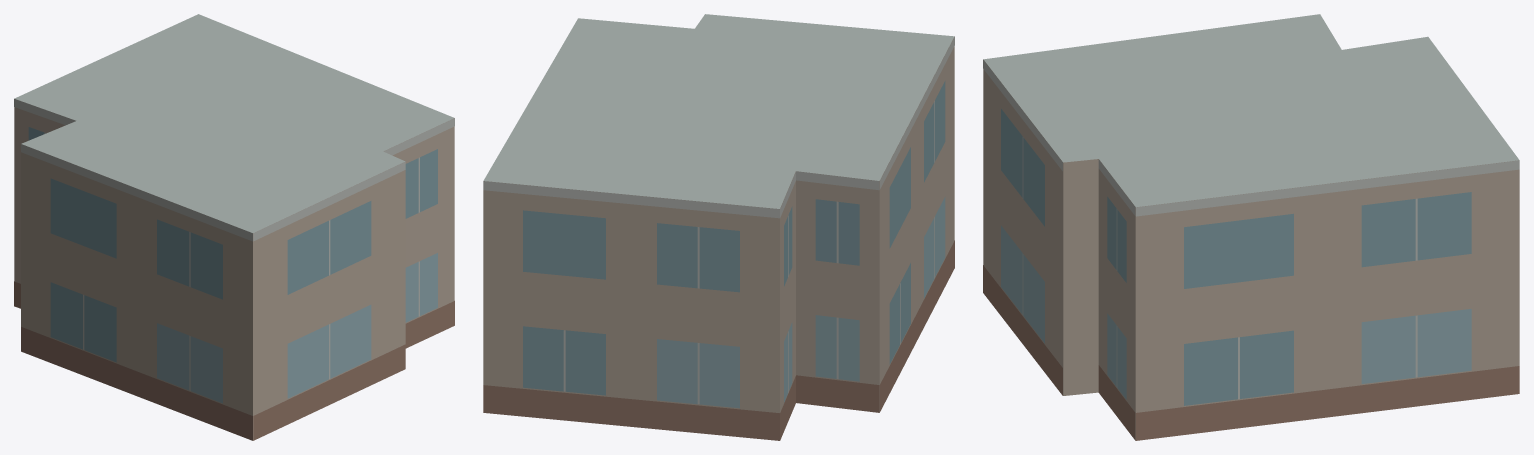
Rendered from survey-upis-32790069.glb.
3 renders of one model, left to right at view 1: azimuth 30°, elevation 25°; view 2: azimuth 150°, elevation 25°; view 3: azimuth 270°, elevation 25°, orthographic. The views are drawn at different scales.
Visible parts, largest first — view 1: survey-upis-32790069.tmp; view 2: survey-upis-32790069.tmp; view 3: survey-upis-32790069.tmp.
Part boxes in pixels (left/top/right/bottom): survey-upis-32790069.tmp: left=14, top=14, right=454, bottom=440; survey-upis-32790069.tmp: left=483, top=14, right=954, bottom=440; survey-upis-32790069.tmp: left=983, top=14, right=1519, bottom=440.
Bounding box in the file's own units: 10.83 × 6.1 × 12.7.
